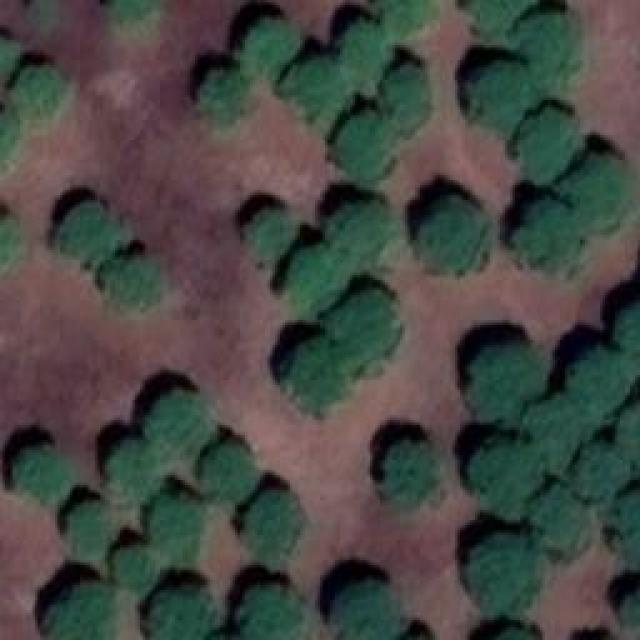Tree: (467, 343, 545, 418), (468, 437, 541, 515), (568, 153, 638, 233), (465, 537, 530, 615), (465, 60, 530, 135), (415, 198, 480, 273), (333, 288, 393, 368), (48, 200, 121, 265), (278, 338, 343, 411), (518, 13, 581, 86), (513, 198, 576, 271), (325, 200, 395, 265), (527, 488, 585, 563), (517, 110, 575, 185), (528, 393, 583, 468), (47, 580, 115, 640), (283, 58, 338, 131), (145, 490, 203, 558), (245, 490, 305, 555), (333, 580, 398, 640), (140, 585, 210, 640), (570, 350, 625, 420), (235, 582, 300, 640), (283, 248, 338, 313), (380, 63, 430, 133), (150, 390, 205, 453), (385, 443, 438, 506), (8, 443, 63, 503), (338, 113, 388, 178), (108, 255, 163, 313), (103, 440, 158, 498), (338, 20, 388, 83), (245, 18, 300, 73), (203, 67, 253, 125), (15, 62, 63, 120), (60, 503, 110, 556), (573, 445, 623, 495), (208, 443, 253, 498), (245, 208, 290, 261), (380, 0, 438, 38), (468, 0, 528, 35), (107, 548, 155, 591), (615, 485, 640, 563), (615, 300, 640, 375), (617, 395, 640, 465), (615, 580, 640, 640), (0, 105, 22, 172), (105, 0, 153, 30), (0, 35, 20, 78), (30, 0, 58, 30), (0, 213, 15, 268)
